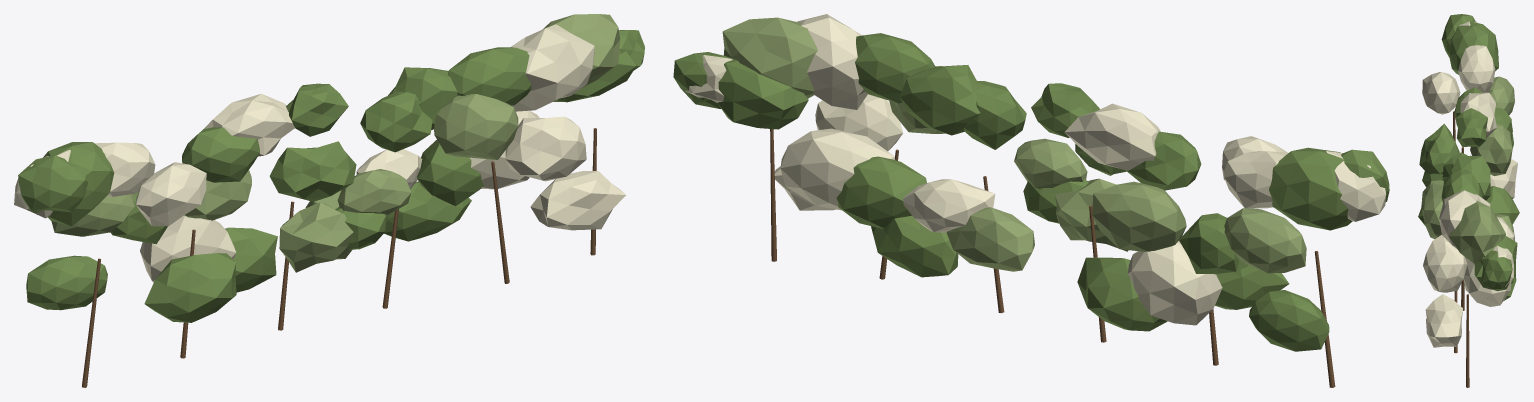
The model's file is fagyal-soveny-5m.glb.
The picture shows the model from 3 angles, left to right: view 1: azimuth 30°, elevation 25°; view 2: azimuth 150°, elevation 25°; view 3: azimuth 270°, elevation 25°; orthographic projection. The views are drawn at different scales.
Visible parts, largest first — view 1: korona-9, korona-30, korona-25, korona-29, korona-31, korona-15, korona-16, korona-27, korona-4, korona-7, korona-2, korona-10 (+22 smaller); view 2: korona-28, korona-10, korona-12, korona-3, korona-32, korona-14, korona-23, korona-26, korona-33, korona-30, korona-5, korona-20 (+23 smaller); view 3: korona-32, korona-29, korona-31, korona-6, korona-3, korona-15, korona-12, korona-7, korona-30, korona-17, korona-35, korona-28 (+18 smaller).
Boxes of the visible parts, box(x1,y1,x2,y2) form: korona-9: box(144, 253, 236, 322); korona-30: box(510, 24, 594, 111); korona-25: box(434, 94, 518, 159); korona-29: box(505, 116, 586, 181); korona-31: box(530, 171, 625, 230); korona-15: box(269, 141, 356, 201); korona-16: box(279, 202, 353, 272); korona-27: box(448, 47, 531, 105); korona-4: box(26, 255, 107, 310); korona-7: box(136, 162, 206, 226); korona-2: box(18, 155, 88, 214); korona-10: box(140, 215, 236, 282); korona-28: box(780, 128, 894, 210); korona-10: box(1127, 241, 1222, 325); korona-12: box(1092, 181, 1186, 251); korona-3: box(1269, 147, 1352, 230); korona-32: box(722, 17, 817, 98); korona-14: box(1064, 103, 1160, 170); korona-23: box(900, 65, 980, 135); korona-26: box(836, 156, 926, 228); korona-33: box(717, 57, 808, 129); korona-30: box(797, 14, 867, 109); korona-5: box(1224, 208, 1306, 273); korona-20: box(946, 207, 1034, 271); korona-32: box(1449, 200, 1505, 263); korona-29: box(1423, 235, 1467, 292); korona-31: box(1425, 294, 1462, 347); korona-6: box(1458, 45, 1495, 92); korona-3: box(1449, 21, 1498, 74); korona-15: box(1419, 123, 1459, 174); korona-12: box(1470, 123, 1512, 176); korona-7: box(1422, 72, 1460, 114); korona-30: box(1439, 190, 1490, 249); korona-17: box(1456, 108, 1487, 147); korona-35: box(1481, 250, 1512, 291); korona-28: box(1463, 257, 1511, 306).
Bounding box in the file's own units: 5.29 × 1.87 × 0.9656.
